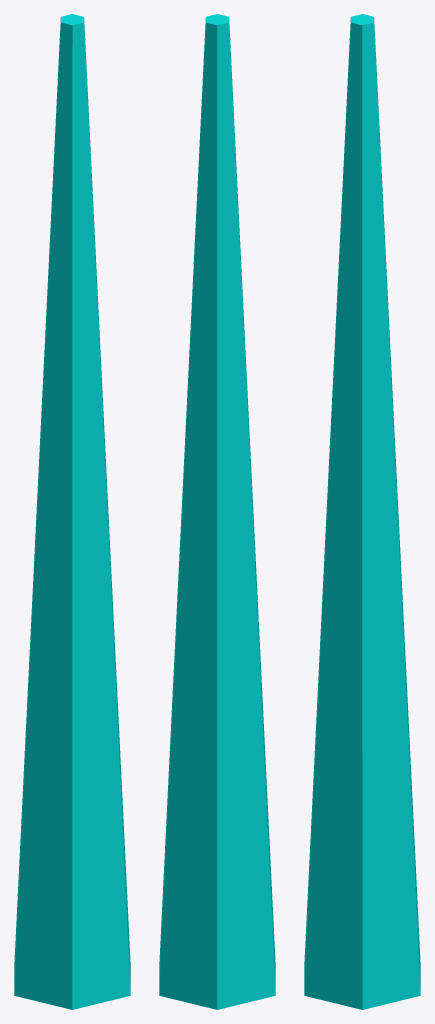
File: SM_Env_Tree_Thin_01_Collision.fbx
The picture shows the model from 3 angles, left to right: view 1: azimuth 30°, elevation 25°; view 2: azimuth 210°, elevation 25°; view 3: azimuth 330°, elevation 25°; orthographic projection.
Visible parts, largest first — view 1: SM_Env_Tree_Thin_01_Collision; view 2: SM_Env_Tree_Thin_01_Collision; view 3: SM_Env_Tree_Thin_01_Collision.
Boxes of the visible parts, x1,y1,x2,y2 form: SM_Env_Tree_Thin_01_Collision: (14, 14, 130, 1009); SM_Env_Tree_Thin_01_Collision: (159, 14, 275, 1009); SM_Env_Tree_Thin_01_Collision: (304, 14, 420, 1009).
Bounding box in the file's own units: 63.03 × 497 × 54.59.
